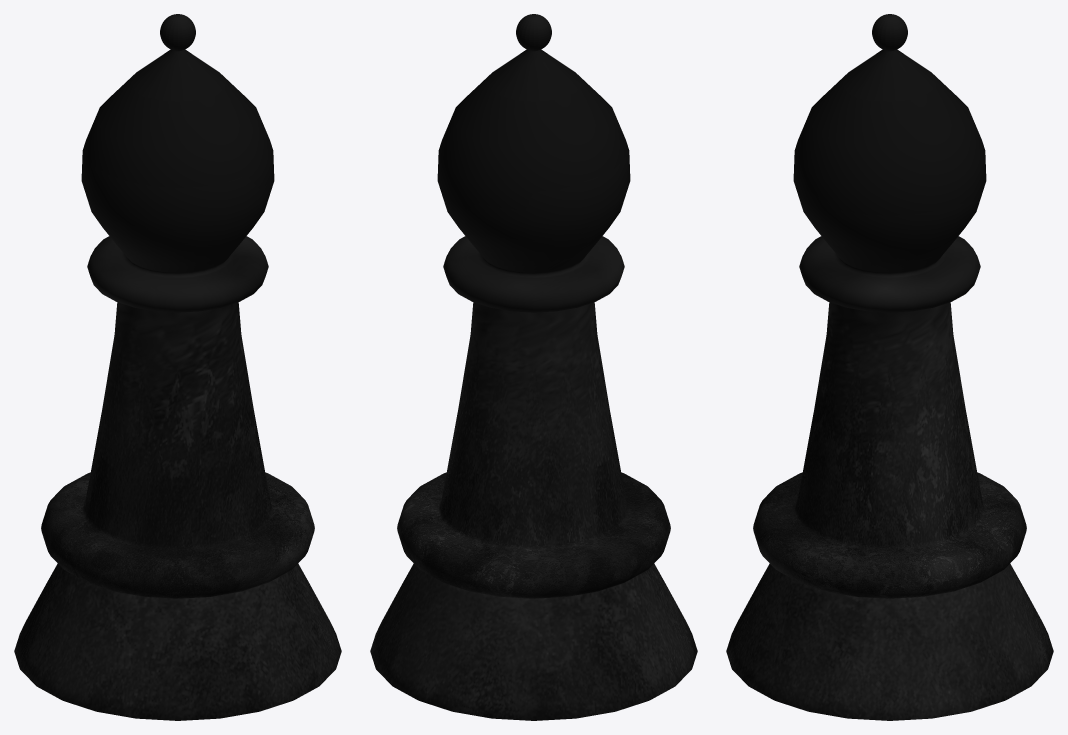
The model's file is bishop_black.obj.
3 views of the same model, side by side, from view 1: azimuth 30°, elevation 25°; view 2: azimuth 150°, elevation 25°; view 3: azimuth 270°, elevation 25° (orthographic).
Visible parts, largest first — view 1: bishop_Cylinder.006; view 2: bishop_Cylinder.006; view 3: bishop_Cylinder.006.
Boxes of the visible parts, x1,y1,x2,y2 form: bishop_Cylinder.006: (14, 14, 341, 720); bishop_Cylinder.006: (370, 14, 697, 720); bishop_Cylinder.006: (726, 14, 1053, 720).
Bounding box in the file's own units: 0.9172 × 1.97 × 0.9172.
1 material, 1 textured.
